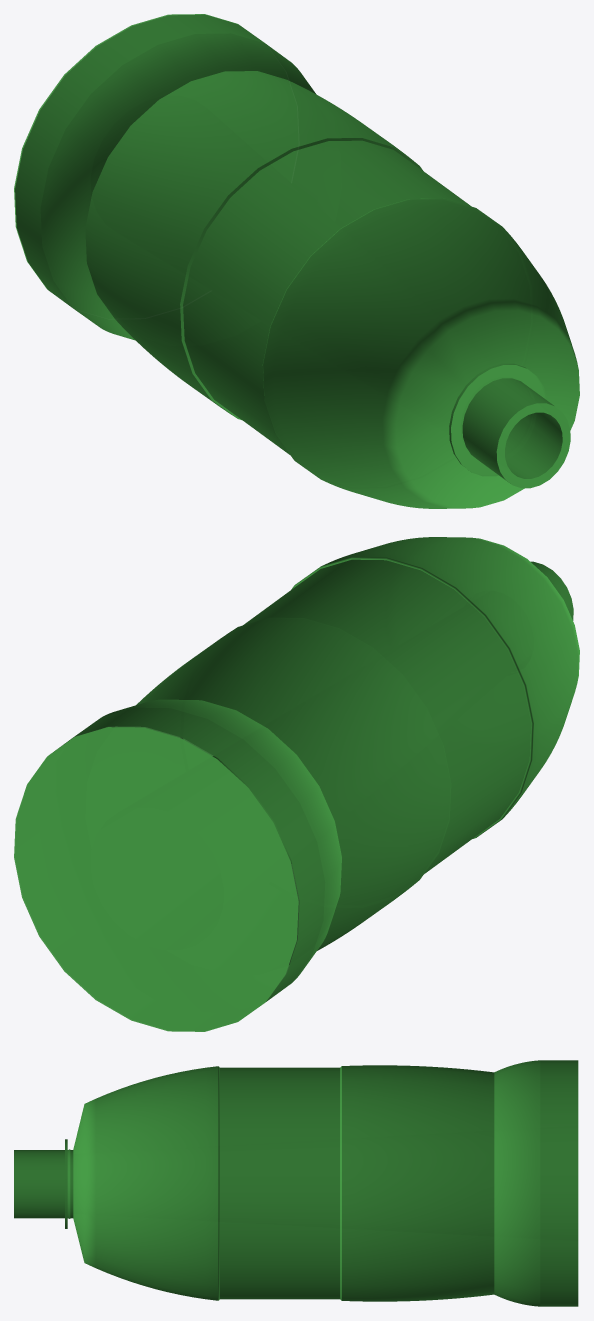
File: model_align.obj
3 views of the same model, one above another, from view 1: azimuth 30°, elevation 25°; view 2: azimuth 150°, elevation 25°; view 3: azimuth 270°, elevation 25° (orthographic). The views are drawn at different scales.
Parts seen in each view (by area): view 1: mesh1_mesh1-geometry, mesh2_mesh2-geometry; view 2: mesh1_mesh1-geometry, mesh2_mesh2-geometry; view 3: mesh1_mesh1-geometry.
Boxes of the visible parts, x1,y1,x2,y2 form: mesh1_mesh1-geometry: (15, 14, 579, 508); mesh2_mesh2-geometry: (14, 14, 238, 289); mesh1_mesh1-geometry: (54, 537, 579, 1001); mesh2_mesh2-geometry: (14, 727, 298, 1031); mesh1_mesh1-geometry: (14, 1060, 578, 1306).
Size of the model in its own units: 0.1063 by 0.1063 by 0.2451.
